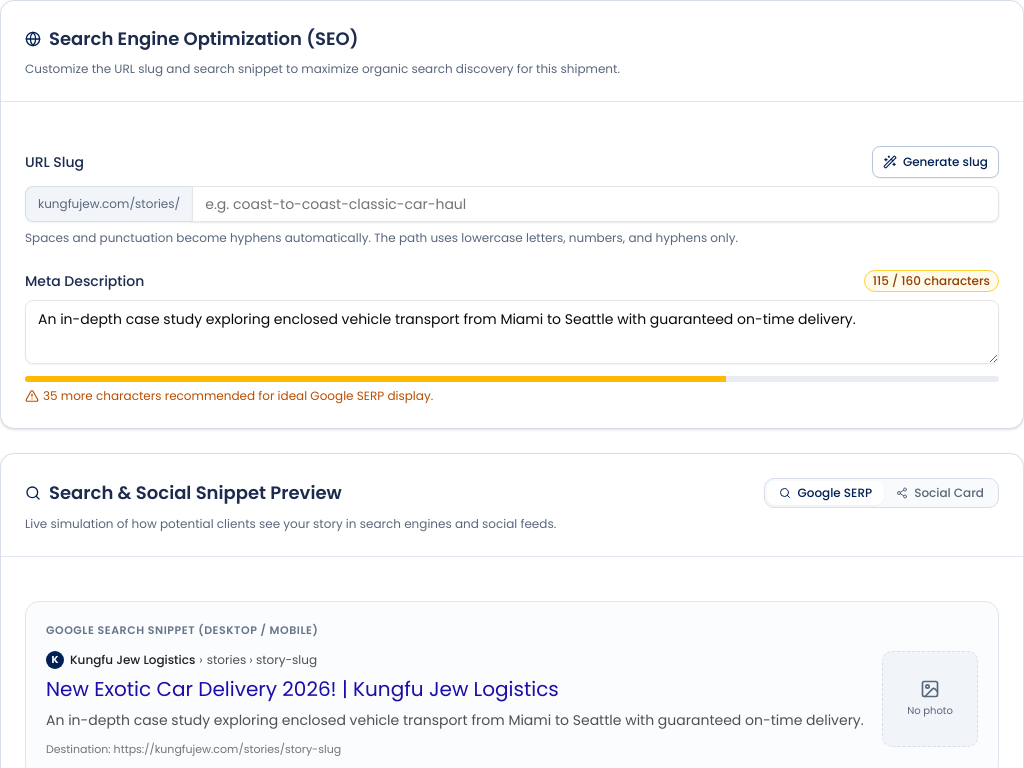
Scenario: Empirical Component Stress Testing: SeoSocialTab › generates slug from current title upon clicking 'Generate slug'
Check: the field labelled "URL Slug" is empty, box [192,186,999,222]
Click the button "Generate slug" at (935, 162), box [872,146,999,178]
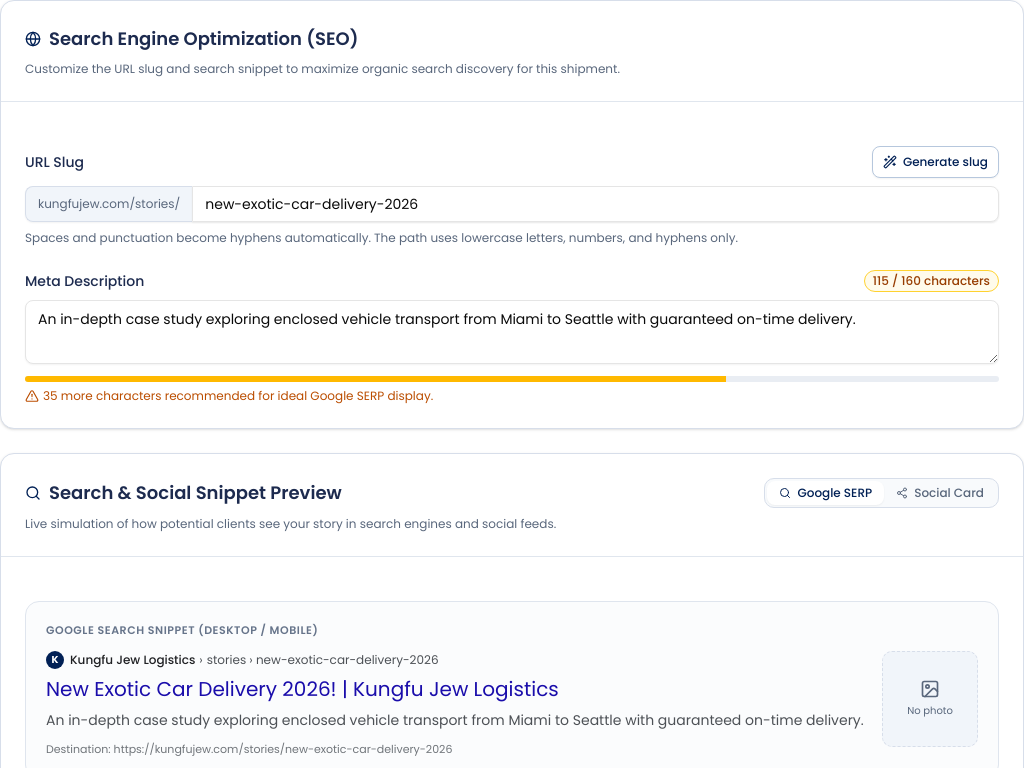
Check: the field labelled "URL Slug" holds "new-exotic-car-delivery-2026", box [192,186,999,222]
